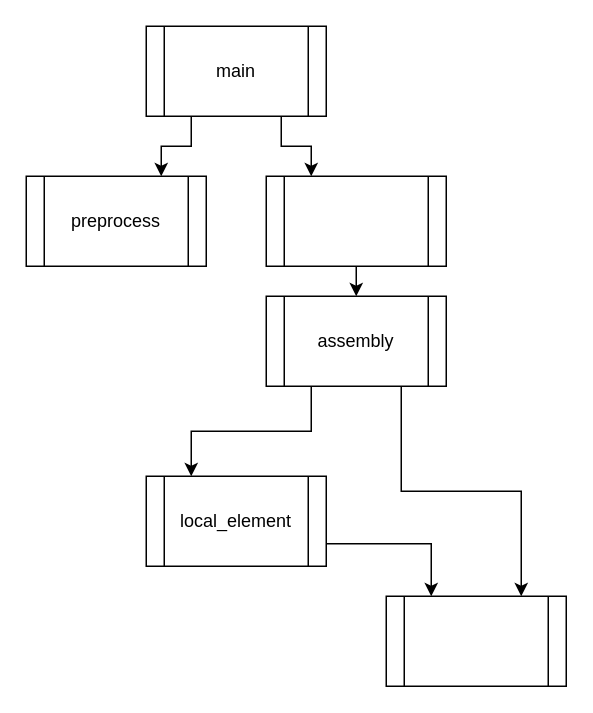
The diagram is 593 pixels wide and 713 high, and some of its shapes have lost their labels. Each missing label, with the box of its shape:
discretization: (385, 595, 566, 686)
solver: (265, 175, 446, 266)
